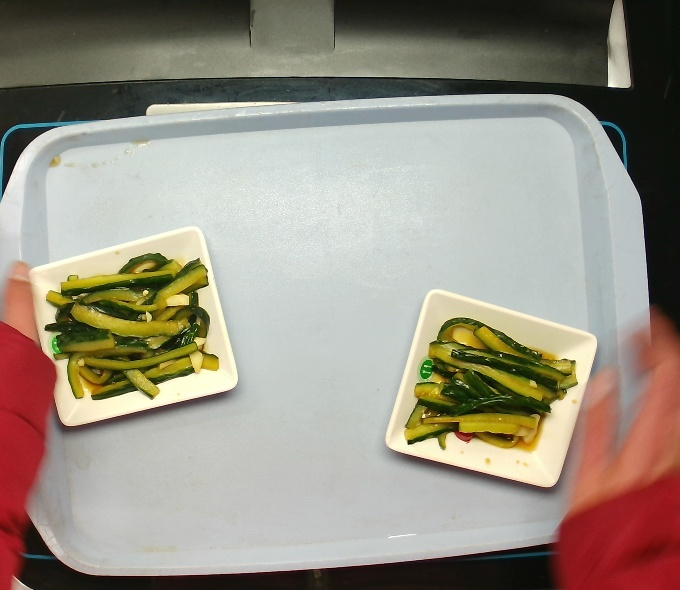wcq-LiangBanHuangGua: (392, 295, 577, 468), (42, 245, 233, 406)
